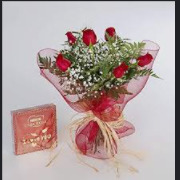RedRose: (54, 53, 77, 77), (80, 25, 99, 48), (60, 28, 79, 46), (136, 50, 152, 70), (113, 63, 129, 79), (104, 26, 119, 43)
